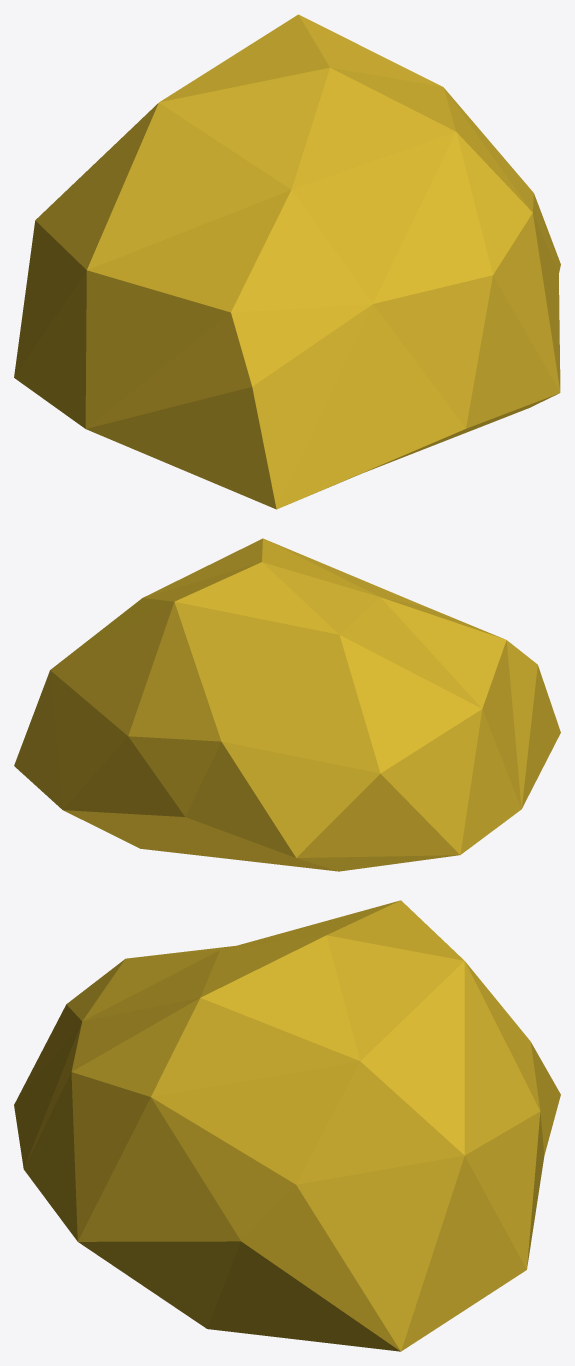
File: stone01.fbx
3 renders of one model, top to bottom at view 1: azimuth 30°, elevation 25°; view 2: azimuth 150°, elevation 25°; view 3: azimuth 270°, elevation 25°, orthographic. The views are drawn at different scales.
Visible parts, largest first — view 1: Icosphere; view 2: Icosphere; view 3: Icosphere.
Part boxes in pixels (x1=…): Icosphere: x1=14, y1=14, x2=560, y2=509; Icosphere: x1=14, y1=538, x2=560, y2=871; Icosphere: x1=14, y1=900, x2=560, y2=1351.
Bounding box in the file's own units: 0.4722 × 0.2907 × 0.4102.
